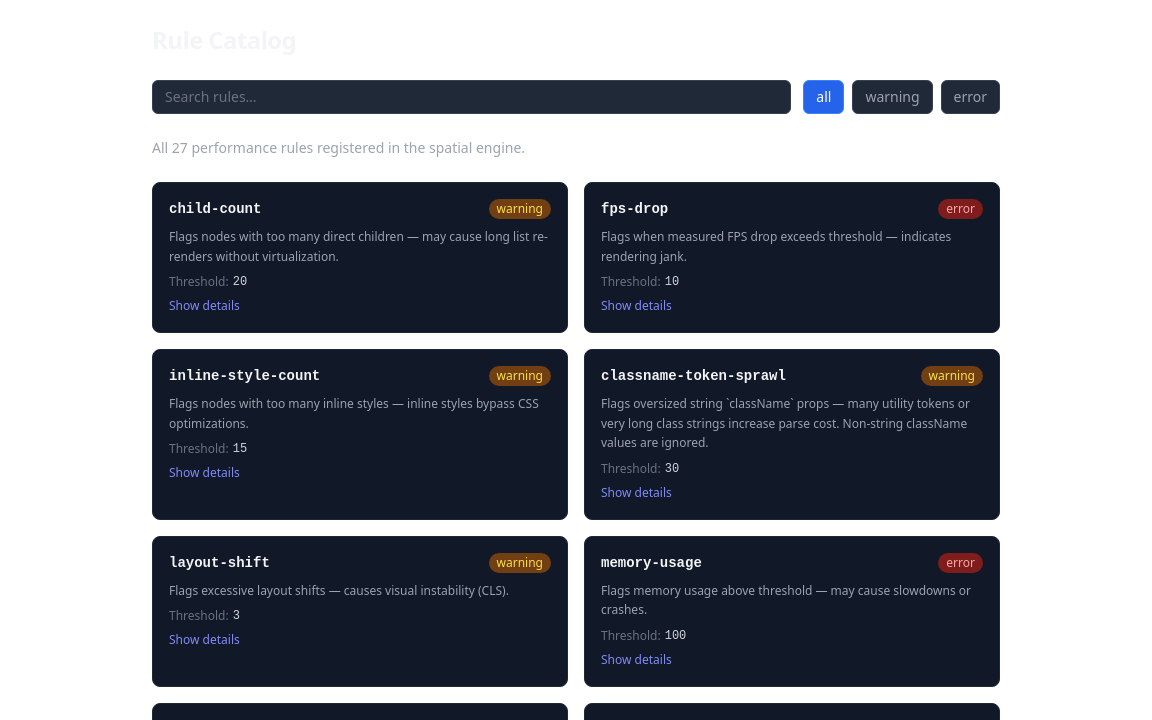
Test case: D10: Rule catalog search › shows no rule cards when search matches nothing
In the field labelled "Search rules…": (472, 97) [152,80,791,114], type "zzznomatch"
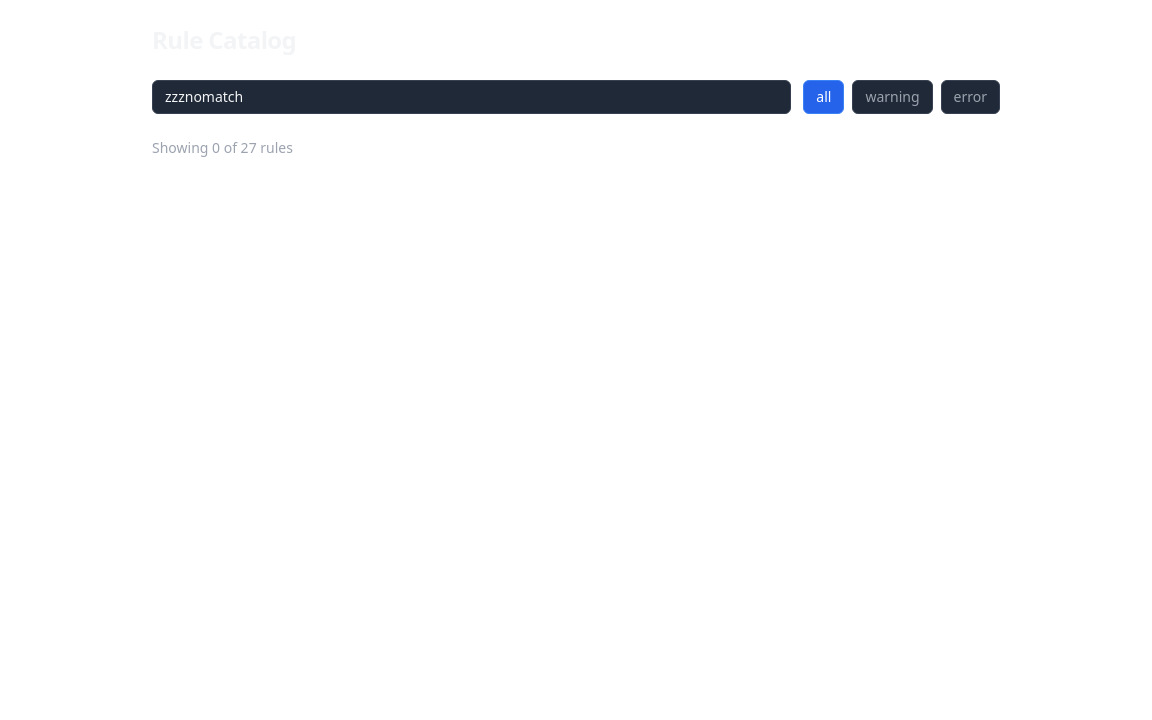
Expected: the heading "fps-drop" is gone
